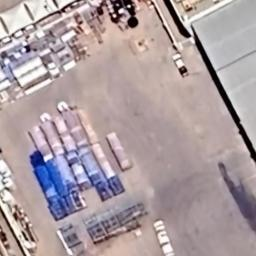van: (170, 53, 198, 79)
